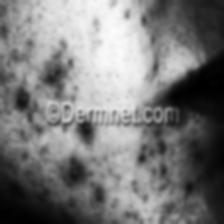Non-Cancerous Skin Condition: (154, 137, 170, 181), (43, 64, 62, 84), (16, 92, 32, 114), (138, 150, 146, 164), (84, 122, 92, 135), (72, 168, 80, 181)
